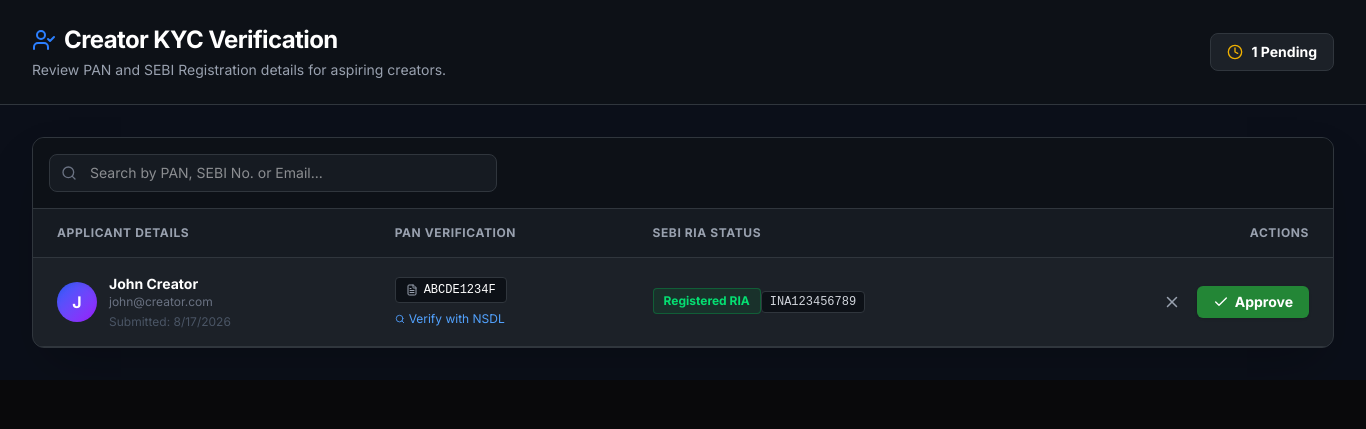
Test: ComplianceDashboard Component › renders requests and handles approval
Expected: the text "John Creator" is shown, [109, 275, 198, 292]
Expected: the text "ABCDE1234F" is shown, [395, 277, 507, 303]
What coordinates should you click on to do the following:
click the text "Verify with NSDL"
I would click on:
 (450, 318)
Its box is [395, 311, 505, 326].
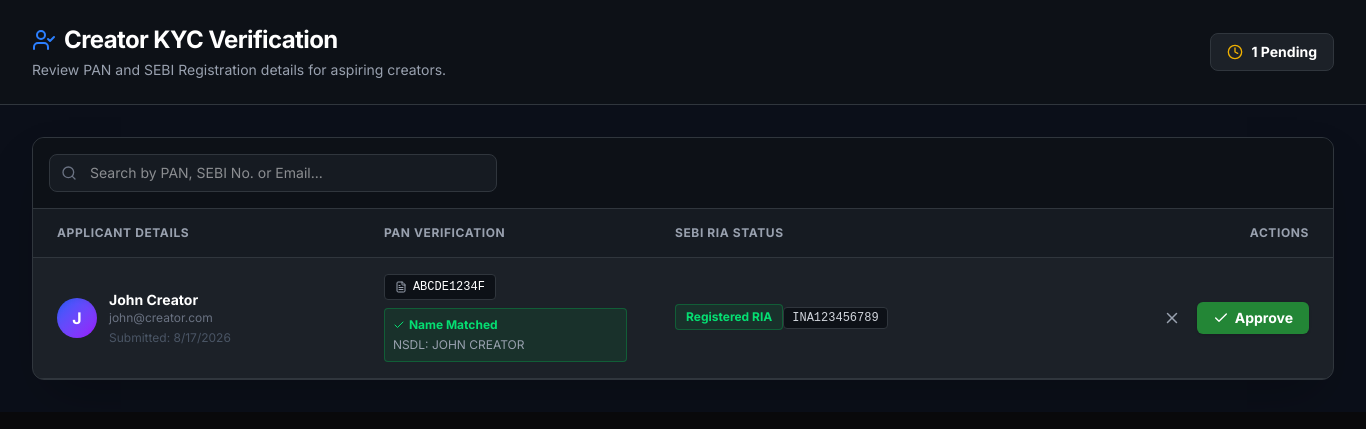
Now the text "Name Matched" is shown, box [393, 317, 498, 332]
Now the text "NSDL: JOHN CREATOR" is shown, box [393, 337, 524, 352]
